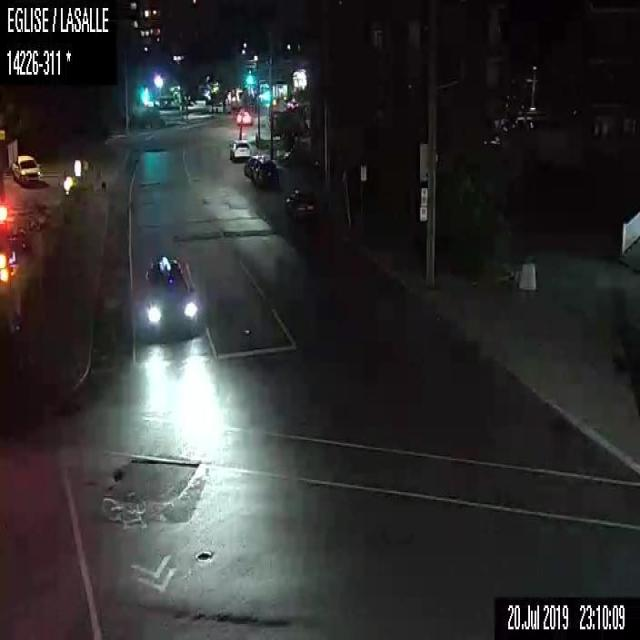vehicle: (136, 252, 199, 339), (282, 186, 321, 218), (9, 152, 44, 186), (253, 158, 279, 185), (242, 153, 266, 180), (228, 138, 251, 161), (236, 110, 252, 124)
